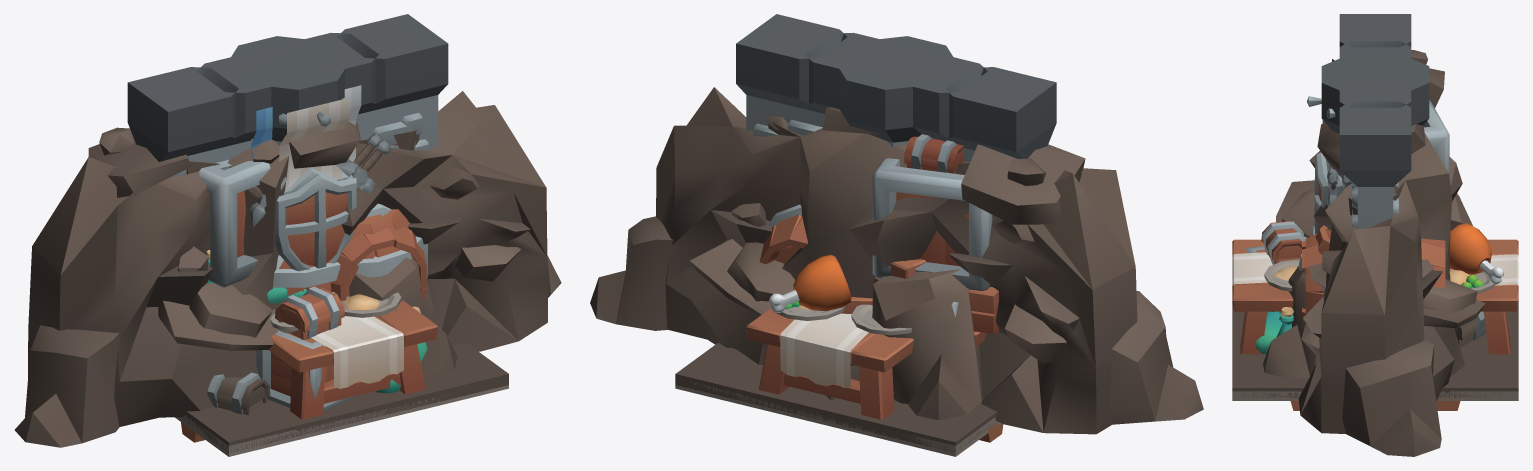
Rendered from capital.glb.
The picture shows the model from 3 angles, left to right: view 1: azimuth 30°, elevation 25°; view 2: azimuth 150°, elevation 25°; view 3: azimuth 270°, elevation 25°; orthographic projection. The views are drawn at different scales.
Parts seen in each view (by area): view 1: rubble_large, wall, pillar_decorated, box_stacked, table_long_tablecloth_decorated_A, ceiling_tile, keg_decorated, floor_tile_large, barrel_large, wall_archedwindow_gated, banner_patternA_blue, banner_shield_blue; view 2: rubble_large, wall, table_long_tablecloth_decorated_A, ceiling_tile, box_stacked, pillar_decorated, keg_decorated, floor_tile_large, crates_stacked; view 3: rubble_large, wall, table_long_tablecloth_decorated_A, pillar_decorated, ceiling_tile, box_stacked, keg_decorated, floor_tile_large, wall_archedwindow_gated.
Boxes of the visible parts, x1,y1,x2,y2 form: rubble_large: [14, 91, 561, 447]; wall: [127, 14, 448, 176]; pillar_decorated: [225, 36, 390, 271]; box_stacked: [199, 161, 427, 415]; table_long_tablecloth_decorated_A: [268, 289, 437, 419]; ceiling_tile: [181, 344, 508, 452]; keg_decorated: [205, 203, 427, 303]; floor_tile_large: [175, 385, 508, 456]; barrel_large: [273, 259, 340, 304]; wall_archedwindow_gated: [174, 96, 436, 222]; banner_patternA_blue: [251, 85, 361, 161]; banner_shield_blue: [279, 98, 382, 194]; rubble_large: [590, 87, 1203, 434]; wall: [736, 14, 1056, 161]; table_long_tablecloth_decorated_A: [746, 254, 913, 419]; ceiling_tile: [675, 342, 1003, 452]; box_stacked: [826, 134, 992, 399]; pillar_decorated: [833, 36, 954, 148]; keg_decorated: [759, 204, 998, 346]; floor_tile_large: [675, 378, 1001, 456]; crates_stacked: [841, 259, 925, 313]; rubble_large: [1263, 50, 1484, 456]; wall: [1339, 14, 1411, 228]; table_long_tablecloth_decorated_A: [1232, 223, 1518, 354]; pillar_decorated: [1307, 51, 1429, 233]; ceiling_tile: [1232, 302, 1518, 410]; box_stacked: [1245, 100, 1486, 353]; keg_decorated: [1302, 230, 1445, 318]; floor_tile_large: [1232, 391, 1518, 400]; wall_archedwindow_gated: [1352, 185, 1393, 228].
Size of the model in its own units: 8.13 by 4.81 by 4.
Materials: 5 (4 with a texture image).
